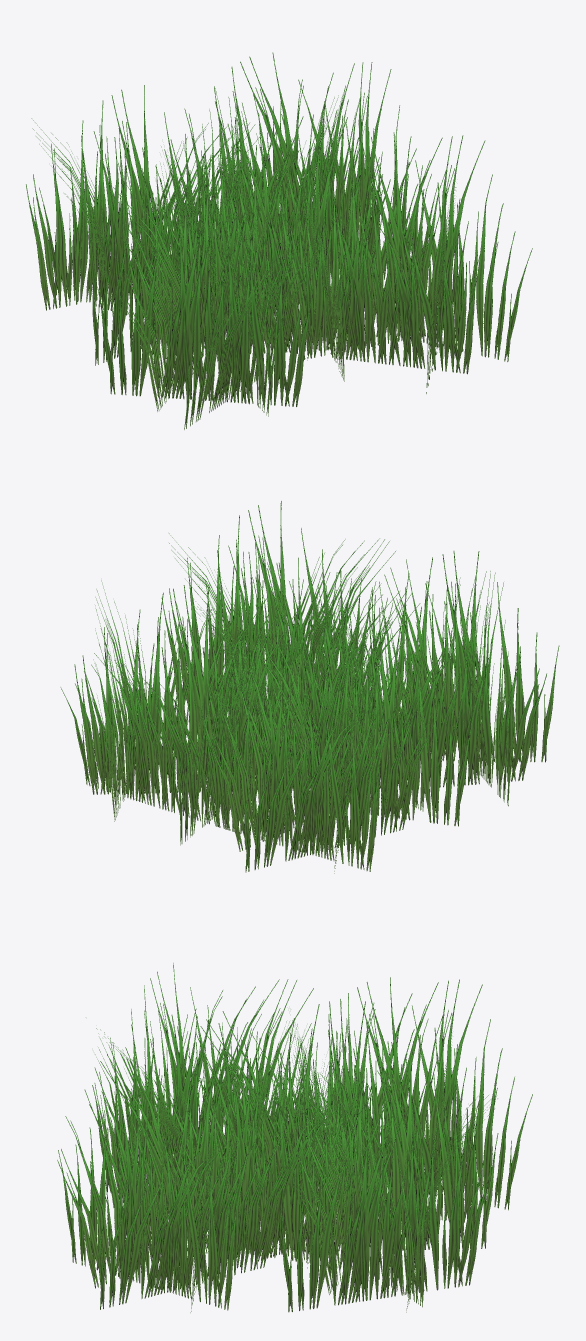
File: Grass_01.FBX
3 renders of one model, top to bottom at view 1: azimuth 30°, elevation 25°; view 2: azimuth 150°, elevation 25°; view 3: azimuth 270°, elevation 25°, orthographic. The views are drawn at different scales.
Visible parts, largest first — view 1: Grass_01; view 2: Grass_01; view 3: Grass_01.
Boxes of the visible parts, x1,y1,x2,y2 form: Grass_01: [26, 52, 532, 429]; Grass_01: [60, 501, 559, 873]; Grass_01: [57, 963, 532, 1312].
Bounding box in the file's own units: 2.25 × 0.9927 × 2.32.
1 material, 1 textured.
